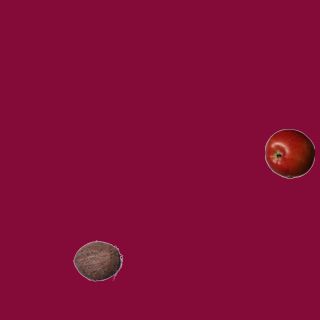Apple Braeburn: (264, 128, 314, 178)
Cocos: (72, 235, 122, 285)
